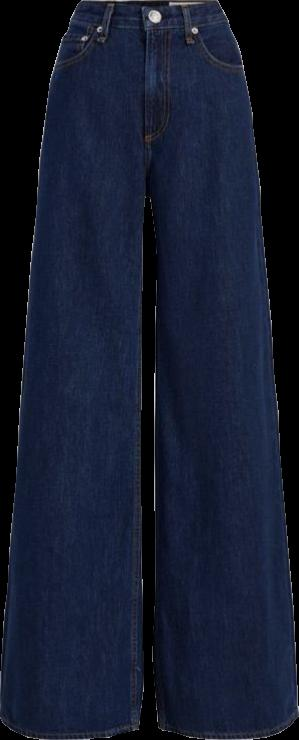Hemline: (156, 708, 298, 739), (0, 712, 140, 739)
Pantleg: (143, 0, 297, 737), (0, 0, 147, 739)
Waistline: (64, 11, 229, 35), (78, 0, 217, 10)
